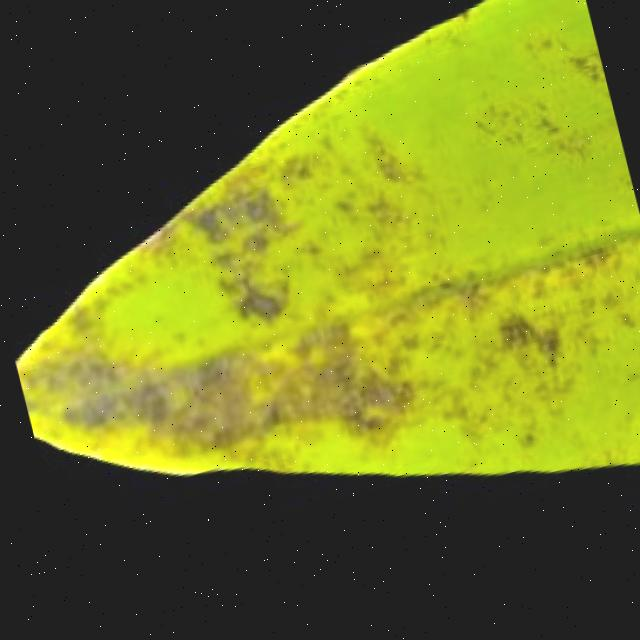mite: (179, 157, 420, 481), (209, 261, 296, 338), (229, 287, 281, 332), (232, 187, 278, 235), (488, 317, 533, 360), (232, 230, 270, 264), (526, 117, 559, 148), (608, 314, 635, 341)
spots: (3, 0, 640, 624)
